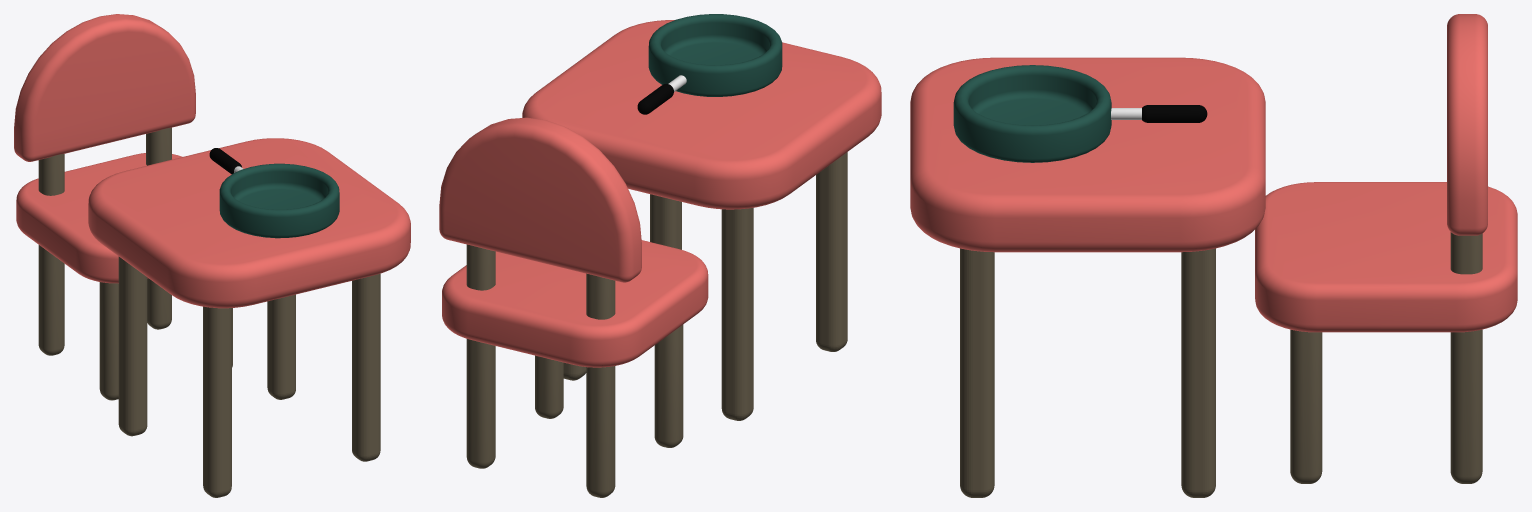
Rendered from furniture.glb.
3 views of the same model, side by side, from view 1: azimuth 30°, elevation 25°; view 2: azimuth 150°, elevation 25°; view 3: azimuth 270°, elevation 25° (orthographic). The views are drawn at different scales.
Visible parts, largest first — view 1: 立方体.002, 円, 立方体.003, 立方体.001, 円柱, 立方体; view 2: 立方体.002, 円, 立方体, 立方体.001, 立方体.003, 円柱, 円柱.001; view 3: 立方体.002, 立方体, 立方体.003, 円柱, 立方体.001, 円, 円柱.001.
Part boxes in pixels (x1,y1,x2,y2): 立方体.002: [88, 138, 410, 308]; 円: [14, 14, 195, 161]; 立方体.003: [118, 256, 380, 497]; 立方体.001: [38, 127, 232, 400]; 円柱: [219, 163, 339, 238]; 立方体: [16, 153, 182, 283]; 立方体.002: [522, 20, 881, 209]; 円: [439, 117, 641, 282]; 立方体: [442, 240, 708, 367]; 立方体.001: [466, 244, 683, 497]; 立方体.003: [563, 152, 847, 420]; 円柱: [648, 14, 782, 96]; 円柱.001: [637, 84, 673, 114]; 立方体.002: [910, 57, 1265, 252]; 立方体: [1255, 182, 1517, 332]; 立方体.003: [960, 248, 1215, 497]; 円柱: [953, 65, 1111, 162]; 立方体.001: [1290, 232, 1482, 483]; 円: [1447, 14, 1487, 235]; 円柱.001: [1142, 105, 1207, 122].
Bounding box in the file's own units: 2.71 × 3.54 × 4.63.
